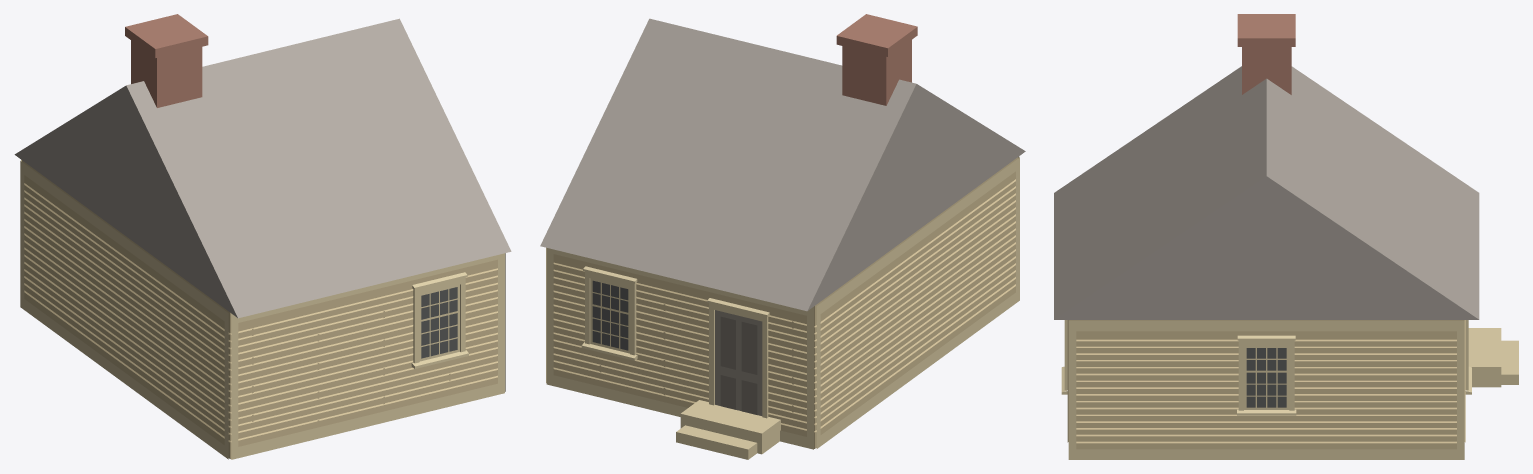
Rendered from recon_1835_blk_south_water_franklin_d3_13__inferred_1835.glb.
3 views of the same model, side by side, from view 1: azimuth 30°, elevation 25°; view 2: azimuth 150°, elevation 25°; view 3: azimuth 270°, elevation 25° (orthographic). The views are drawn at different scales.
Visible parts, largest first — view 1: recon_1835_blk_south_water_franklin_d3_13__inferred_1835; view 2: recon_1835_blk_south_water_franklin_d3_13__inferred_1835; view 3: recon_1835_blk_south_water_franklin_d3_13__inferred_1835.
Boxes of the visible parts, x1,y1,x2,y2 form: recon_1835_blk_south_water_franklin_d3_13__inferred_1835: (14, 14, 511, 459); recon_1835_blk_south_water_franklin_d3_13__inferred_1835: (540, 14, 1025, 459); recon_1835_blk_south_water_franklin_d3_13__inferred_1835: (1054, 14, 1518, 459).
Bounding box in the file's own units: 5.24 × 6.06 × 7.87.
